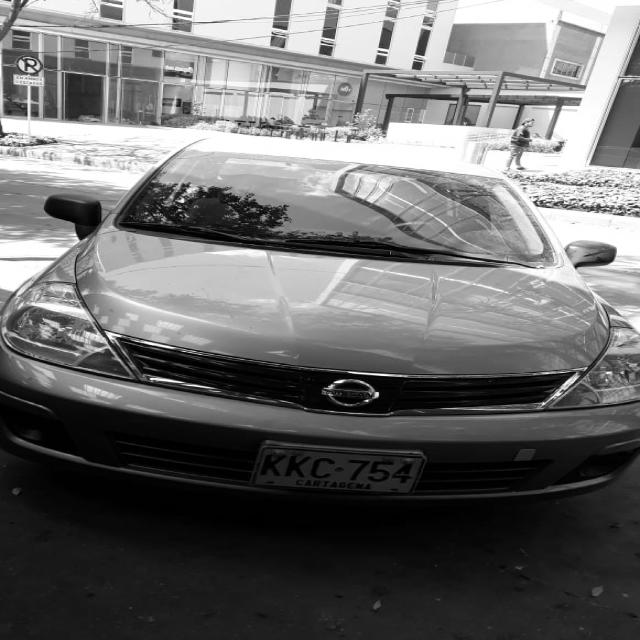plate: (239, 438, 427, 501)
